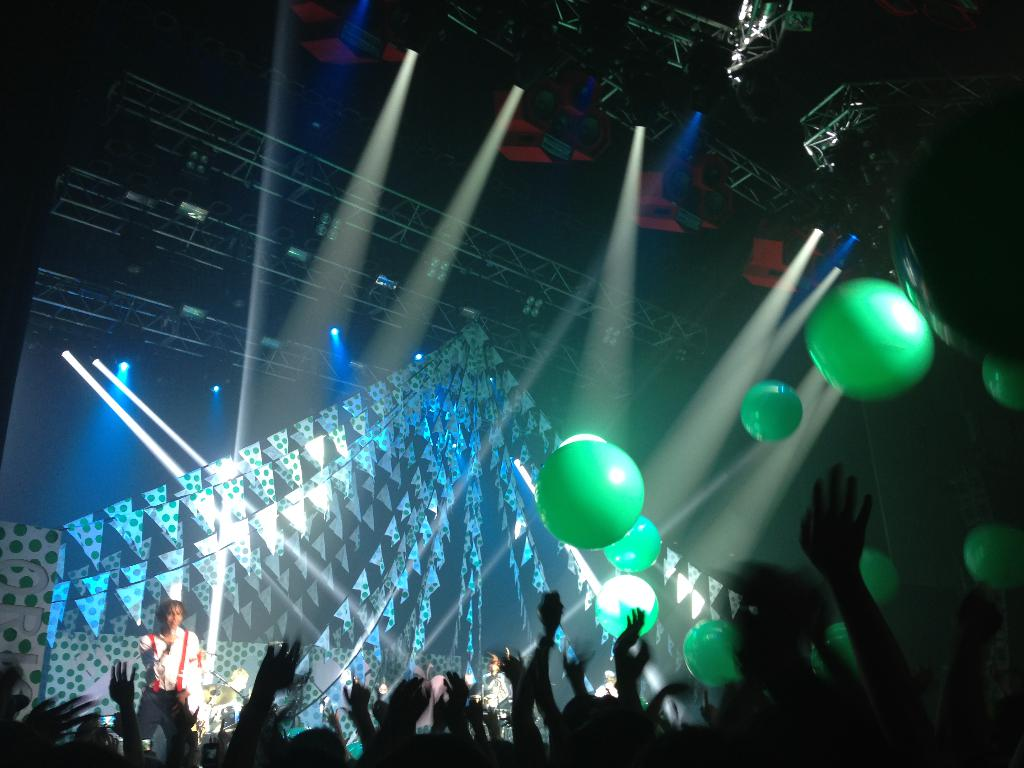Ball: (807, 281, 932, 403), (540, 438, 643, 547), (594, 577, 659, 639), (685, 623, 741, 692), (970, 520, 1023, 589), (742, 383, 803, 440), (605, 516, 663, 570), (810, 623, 857, 684), (988, 358, 1023, 410), (863, 549, 893, 605)
